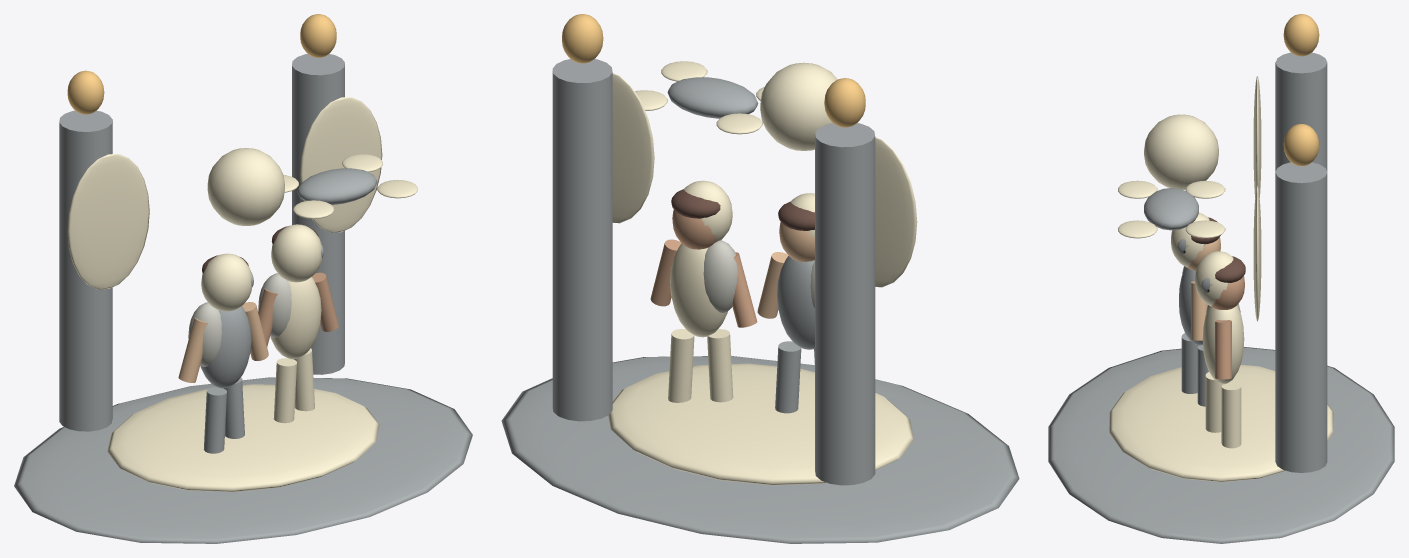
The model's file is future-scene.gltf.
The picture shows the model from 3 angles, left to right: view 1: azimuth 30°, elevation 25°; view 2: azimuth 150°, elevation 25°; view 3: azimuth 270°, elevation 25°; orthographic projection. The views are drawn at different scales.
Visible parts, largest first — view 1: Ground, SolarTower (×2), CircularPlatform, HologramPanel (×2), Body (×2), HologramSphere, HelmetGlass (×2), LeftLeg (×2), LightNode (×2), Backpack (×2), DroneBody, RightLeg (×2) (+3 smaller); view 2: SolarTower (×2), Ground, CircularPlatform, HologramPanel (×2), Body (×2), HologramSphere, RightLeg (×2), LightNode (×2), DroneBody, Face (×2), RightArm (×2), Backpack (+5 smaller); view 3: Ground, SolarTower (×2), CircularPlatform, HologramSphere, Body (×2), LightNode (×2), DroneRotor (×4), HelmetGlass (×2), RightLeg (×2), DroneBody, LeftLeg (×2), HologramPanel (×2) (+3 smaller).
Part boxes in pixels (box(x1,y1,x2,y2)): Ground: box(14, 377, 472, 543); SolarTower (×2): box(59, 54, 344, 431); CircularPlatform: box(107, 384, 379, 491); HologramPanel (×2): box(67, 97, 382, 289); Body (×2): box(200, 277, 321, 388); HologramSphere: box(207, 148, 284, 225); HelmetGlass (×2): box(201, 224, 321, 311); LeftLeg (×2): box(203, 358, 296, 453); LightNode (×2): box(67, 14, 336, 114); Backpack (×2): box(188, 273, 291, 366); DroneBody: box(297, 168, 377, 204); RightLeg (×2): box(223, 348, 314, 438); SolarTower (×2): box(552, 59, 875, 485); Ground: box(501, 356, 1019, 543); CircularPlatform: box(608, 363, 913, 485); HologramPanel (×2): box(612, 73, 917, 287); Body (×2): box(670, 243, 814, 349); HologramSphere: box(760, 62, 837, 150); RightLeg (×2): box(668, 329, 801, 413); LightNode (×2): box(562, 14, 865, 127); DroneBody: box(667, 77, 758, 118); Face (×2): box(672, 209, 814, 261); RightArm (×2): box(650, 239, 788, 318); Backpack: box(703, 240, 738, 312); Ground: box(1048, 347, 1394, 543); SolarTower (×2): box(1275, 52, 1327, 472); CircularPlatform: box(1109, 364, 1333, 481); HologramSphere: box(1144, 114, 1218, 189); Body (×2): box(1179, 267, 1244, 384); LightNode (×2): box(1283, 14, 1319, 166); DroneRotor (×4): box(1118, 180, 1225, 238); HelmetGlass (×2): box(1171, 213, 1233, 306); RightLeg (×2): box(1197, 345, 1241, 448); DroneBody: box(1144, 188, 1198, 230); LeftLeg (×2): box(1181, 333, 1222, 432); HologramPanel (×2): box(1253, 76, 1261, 321).
Bounding box in the file's own units: 2.36 × 2.12 × 1.73.
